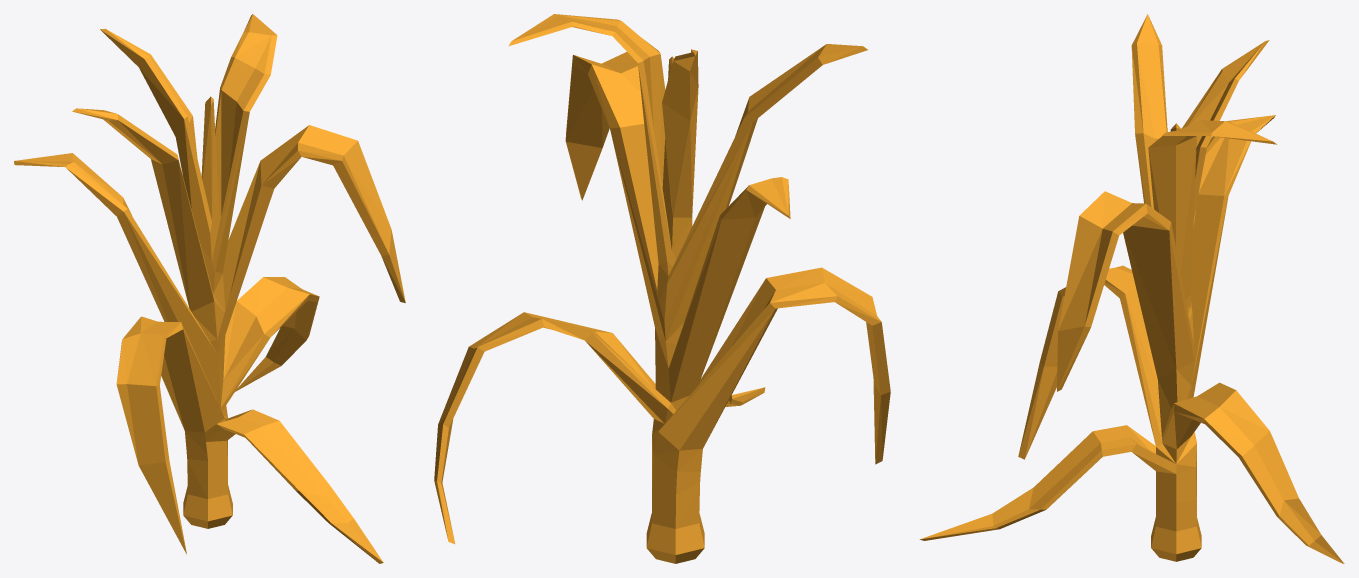
File: SM_Leek_Mature_C.fbx
3 views of the same model, side by side, from view 1: azimuth 30°, elevation 25°; view 2: azimuth 150°, elevation 25°; view 3: azimuth 270°, elevation 25° (orthographic). The views are drawn at different scales.
Visible parts, largest first — view 1: leek-mature-c; view 2: leek-mature-c; view 3: leek-mature-c.
Boxes of the visible parts, x1=… form: leek-mature-c: x1=14, y1=14, x2=405, y2=563; leek-mature-c: x1=434, y1=14, x2=890, y2=563; leek-mature-c: x1=919, y1=14, x2=1344, y2=563.
Size of the model in its own units: 0.5506 by 0.8303 by 0.6589.
